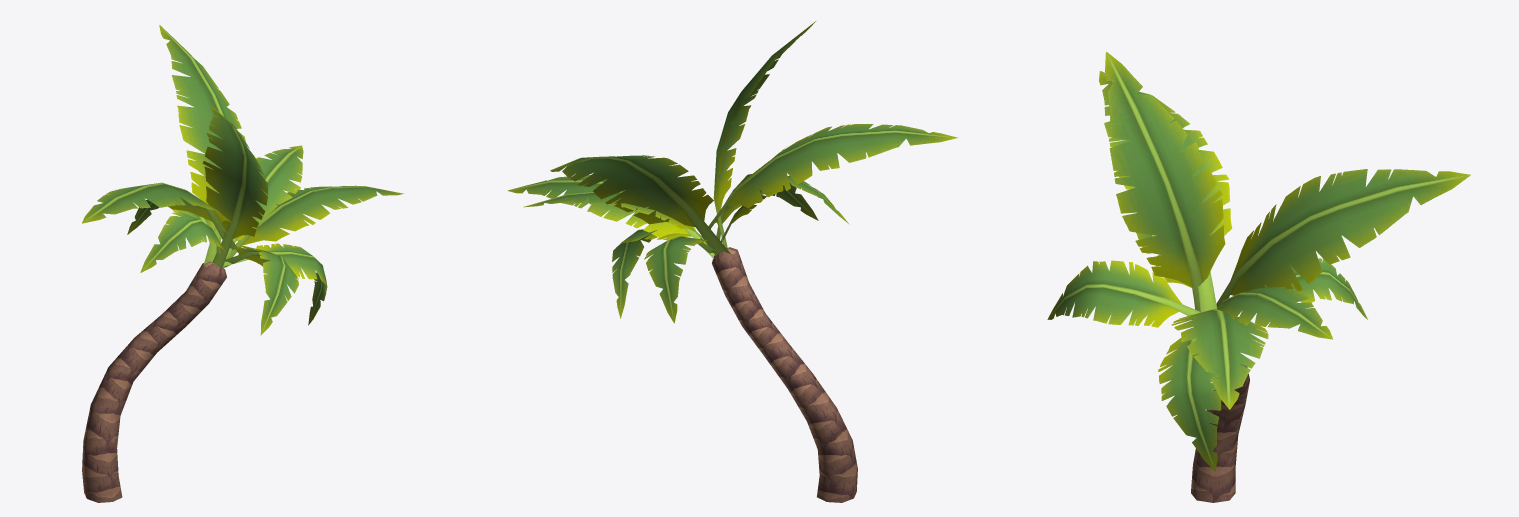
The model's file is palmtree_2.glb.
3 renders of one model, left to right at view 1: azimuth 30°, elevation 25°; view 2: azimuth 150°, elevation 25°; view 3: azimuth 270°, elevation 25°, orthographic. The views are drawn at different scales.
Parts seen in each view (by area): view 1: PalmTree_2; view 2: PalmTree_2; view 3: PalmTree_2.
Boxes of the visible parts, box(x1,y1,x2,y2) form: PalmTree_2: box(82, 25, 404, 502); PalmTree_2: box(508, 21, 958, 502); PalmTree_2: box(1047, 51, 1470, 502).
Size of the model in its own units: 5.58 by 5.28 by 4.77.
Materials: 2 (2 with a texture image).
